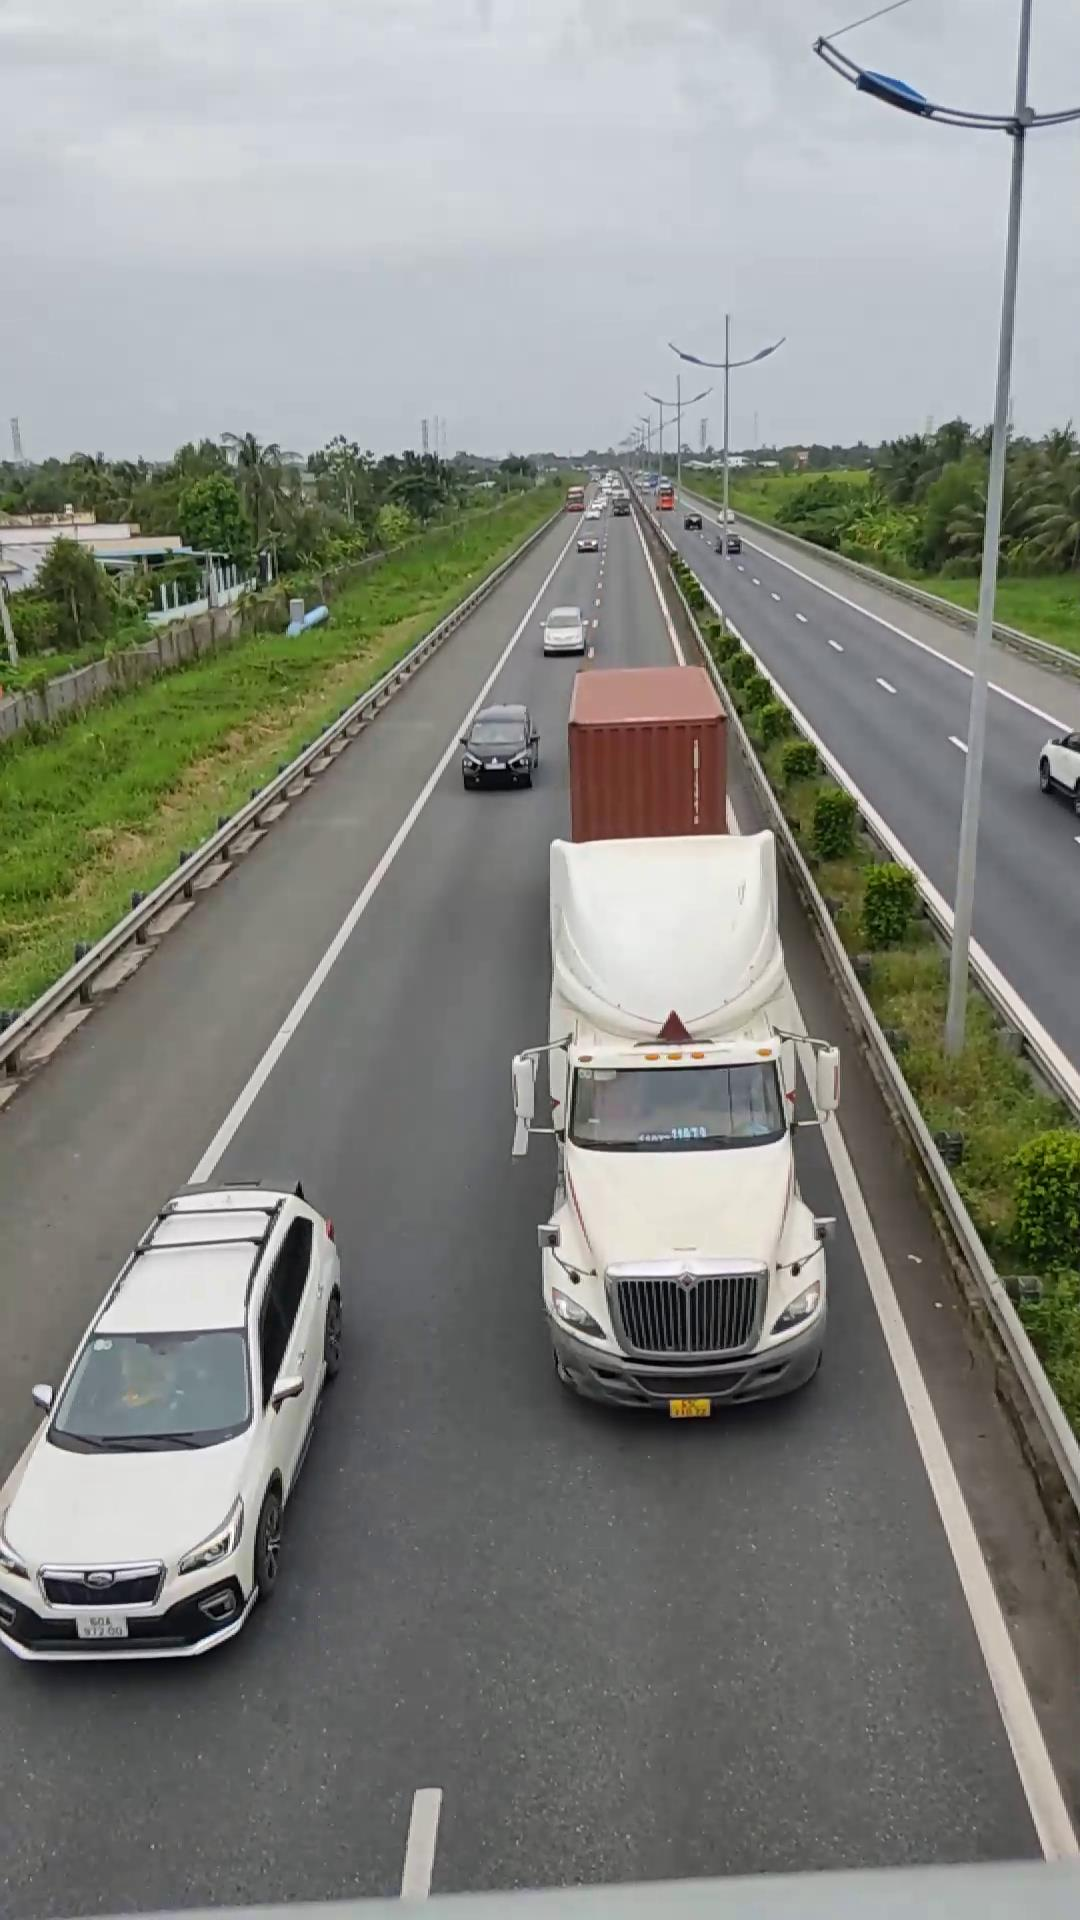car: (0, 1181, 346, 1655), (459, 701, 540, 788)
container: (514, 662, 832, 1413)
